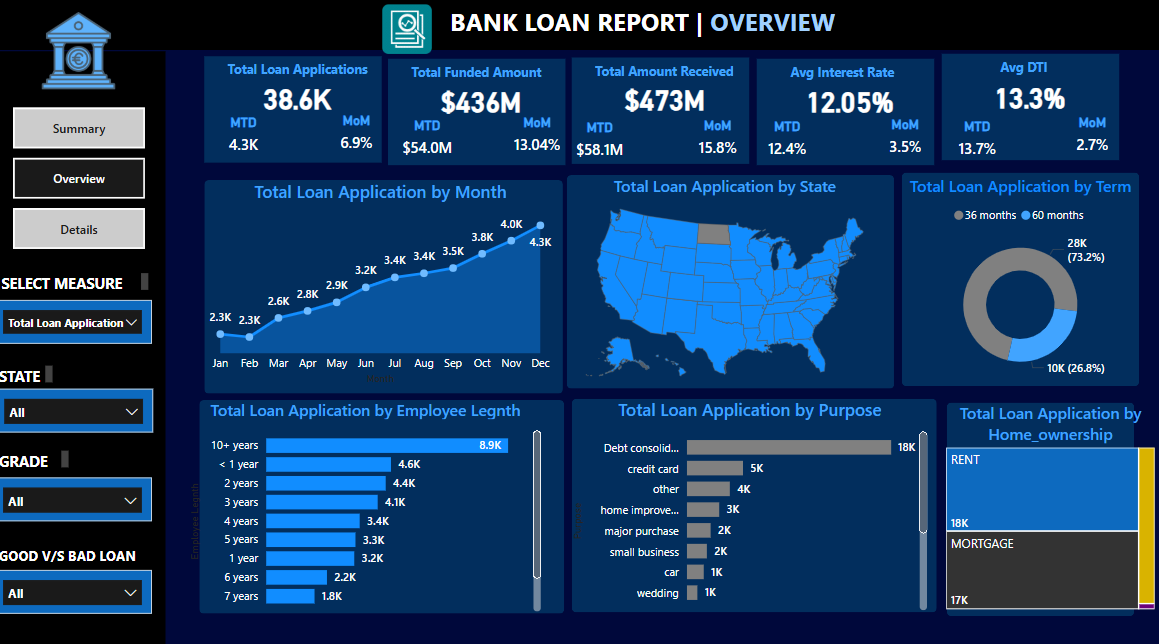

This screenshot's page, from the dashboard's own definition file:
{"tool":"powerbi","page":{"name":"Overview","canvas":[1280,720],"ordinal":1},"visuals":[{"type":"shape","box":[1042,59.5,194.8,116.9],"z":0,"group":"g4"},{"type":"shape","box":[232.1,61.7,194.8,116.9],"z":0,"group":"g5"},{"type":"shape","box":[635.2,63.5,194.8,116.9],"z":0,"group":"g2"},{"type":"shape","box":[434.2,64.5,194.8,116.9],"z":0,"group":"g1"},{"type":"shape","box":[838.4,64.5,194.8,116.9],"z":0,"group":"g3"},{"type":"shape","box":[231.9,197.6,393.8,234.6],"z":0},{"type":"shape","box":[0,0,1280.3,54.9],"z":1000},{"type":"card","fields":{"Values":["Bank_Loan_Data.Avg DTI"]},"box":[1077.3,80.5,122.1,52.1],"z":1000,"group":"g4"},{"type":"card","fields":{"Values":["Bank_Loan_Data.Total Loan Application"]},"box":[273.1,80.7,122,53],"z":1000,"group":"g5"},{"type":"card","fields":{"Values":["Bank_Loan_Data.Total Amount received"]},"box":[676.2,82.5,122,53],"z":1000,"group":"g2"},{"type":"card","fields":{"Values":["Bank_Loan_Data.Total Funded Amount"]},"box":[475.2,83.5,122,53],"z":1000,"group":"g1"},{"type":"card","fields":{"Values":["Bank_Loan_Data.Average Intrest Rate"]},"box":[879.4,83.5,122,53],"z":1000,"group":"g3"},{"type":"shape","box":[0,56.3,189.4,664.2],"z":2000},{"type":"textbox","box":[1062,59.6,175,30],"z":2000,"group":"g4"},{"type":"textbox","box":[252.1,61.8,175,30],"z":2000,"group":"g5"},{"type":"textbox","box":[655.2,63.6,175,30],"z":2000,"group":"g2"},{"type":"textbox","box":[454.2,64.6,175,30],"z":2000,"group":"g1"},{"type":"textbox","box":[858.4,64.6,175,30],"z":2000,"group":"g3"},{"type":"textbox","box":[1.4,396.6,68.6,30.2],"z":3000},{"type":"textbox","box":[496.3,0,537,45.7],"z":4000},{"type":"group","id":"g1","title":"Group 1","box":[434.2,64.5,195.1,117.3],"z":5000},{"type":"card","title":"MTD","fields":{"Values":["Bank_Loan_Data.MTD Funded Amount"]},"box":[439,128.9,75,53],"z":6000},{"type":"card","title":"MoM","fields":{"Values":["Bank_Loan_Data.MoM Total Funded Amount"]},"box":[563.8,126.2,66.7,53.1],"z":7000},{"type":"group","id":"g2","title":"Group 1","box":[635.2,63.5,195,116.9],"z":8000},{"type":"card","title":"MTD","fields":{"Values":["Bank_Loan_Data.MTD Amount Received"]},"box":[633.8,131.1,64,53],"z":9000},{"type":"card","title":"MoM","fields":{"Values":["Bank_Loan_Data.MoM Total Funded Amount  Received"]},"box":[767.4,128.5,57,53],"z":10000},{"type":"group","id":"g3","title":"Group 1","box":[838.4,64.5,194.9,116.6],"z":11000},{"type":"card","title":"MTD","fields":{"Values":["Bank_Loan_Data.MTD Avg Interest Rate"]},"box":[839.2,130.1,64,53],"z":12000},{"type":"card","title":"MoM","fields":{"Values":["Bank_Loan_Data.MoM Avg Interest Day"]},"box":[972.8,127.5,57,53],"z":13000},{"type":"group","id":"g4","title":"Group 1","box":[1042,59.5,195,116.9],"z":14000},{"type":"card","title":"MTD","fields":{"Values":["Bank_Loan_Data.MTD Avg DTI"]},"box":[1048.3,130.3,64,53],"z":15000},{"type":"card","title":"MoM","fields":{"Values":["Bank_Loan_Data.MoM Avg DTI"]},"box":[1178.2,126.8,56.3,52.1],"z":16000},{"type":"group","id":"g5","title":"Group 1","box":[232.1,61.7,195.1,117.3],"z":17000},{"type":"card","title":"MTD","fields":{"Values":["Bank_Loan_Data.MTD Loan Applications"]},"box":[237,126.2,75,53],"z":18000},{"type":"card","title":"MoM","fields":{"Values":["Bank_Loan_Data.MoM Loan Application"]},"box":[371,123.2,57,53],"z":19000},{"type":"slicer","fields":{"Values":["Bank_Loan_Data.address_state"]},"box":[1.4,426.8,174.3,48],"z":20000},{"type":"slicer","fields":{"Values":["Bank_Loan_Data.grade"]},"box":[0,524.2,174.3,48],"z":21000},{"type":"textbox","box":[1.4,489.9,86.4,30.2],"z":22000},{"type":"slicer","fields":{"Values":["Bank_Loan_Data.Good vs Bad Loan"]},"box":[0,625.7,174.3,48],"z":23000},{"type":"textbox","box":[1.4,595.5,174.3,30.2],"z":24000},{"type":"areaChart","fields":{"Y":["Bank_Loan_Data.Total Loan Application"],"Category":["Date Table.Month"]},"box":[231.9,197.6,387,229.2],"z":25000},{"type":"slicer","fields":{"Values":["Select Measures.Select Measures"]},"box":[0,329.3,174.3,48],"z":26000},{"type":"textbox","box":[4.1,295,171.5,30.2],"z":27000},{"type":"shape","box":[629.8,192.1,359.5,234.6],"z":28000},{"type":"shapeMap","fields":{"Value":["Bank_Loan_Data.Total Loan Application"],"Category":["Bank_Loan_Data.address_state"]},"box":[617.5,192.1,371.9,236],"z":29000},{"type":"shape","box":[997.3,189.6,260.7,234.6],"z":30000},{"type":"donutChart","fields":{"Y":["Bank_Loan_Data.Total Loan Application"],"Category":["Bank_Loan_Data.term"]},"box":[997.6,192.1,260.7,231.9],"z":31000},{"type":"shape","box":[226.4,439.1,400.7,234.6],"z":32000},{"type":"barChart","fields":{"Y":["Bank_Loan_Data.Total Loan Application"],"Category":["Bank_Loan_Data.emp_length"]},"box":[211.3,437.7,395.2,238.8],"z":33000},{"type":"shape","box":[635.3,437.7,400.7,234.6],"z":34000},{"type":"barChart","fields":{"Y":["Bank_Loan_Data.Total Loan Application"],"Category":["Bank_Loan_Data.purpose"]},"box":[631.2,436.4,399.3,238.8],"z":35000},{"type":"shape","box":[1047,441.9,205.8,234.6],"z":36000},{"type":"treemap","fields":{"Values":["Bank_Loan_Data.Total Loan Application"],"Group":["Bank_Loan_Data.home_ownership"]},"box":[1041.5,441.9,238.8,231.9],"z":37000},{"type":"image","box":[418.5,0,71.4,64.5],"z":37001},{"type":"pageNavigator","box":[22,118,145.5,155.1],"z":37002},{"type":"image","box":[46.7,6.9,94.7,97.4],"z":37003}]}

Visuals, with their boxes in screenshot pixels (x1, y1, x2, y2), scaled from the page's 1280x720 canvas onto the 1159x644 screenshot:
shape: [x1=943, y1=53, x2=1120, y2=158]
shape: [x1=210, y1=55, x2=387, y2=160]
shape: [x1=575, y1=57, x2=752, y2=161]
shape: [x1=393, y1=58, x2=570, y2=162]
shape: [x1=759, y1=58, x2=936, y2=162]
shape: [x1=210, y1=177, x2=567, y2=387]
shape: [x1=0, y1=0, x2=1158, y2=49]
card - Bank_Loan_Data.Avg DTI: [x1=975, y1=72, x2=1086, y2=119]
card - Bank_Loan_Data.Total Loan Application: [x1=247, y1=72, x2=358, y2=120]
card - Bank_Loan_Data.Total Amount received: [x1=612, y1=74, x2=723, y2=121]
card - Bank_Loan_Data.Total Funded Amount: [x1=430, y1=75, x2=541, y2=122]
card - Bank_Loan_Data.Average Intrest Rate: [x1=796, y1=75, x2=907, y2=122]
shape: [x1=0, y1=50, x2=171, y2=643]
textbox: [x1=962, y1=53, x2=1120, y2=80]
textbox: [x1=228, y1=55, x2=387, y2=82]
textbox: [x1=593, y1=57, x2=752, y2=84]
textbox: [x1=411, y1=58, x2=570, y2=85]
textbox: [x1=777, y1=58, x2=936, y2=85]
textbox: [x1=1, y1=355, x2=63, y2=382]
textbox: [x1=449, y1=0, x2=936, y2=41]
"Group 1" group: [x1=393, y1=58, x2=570, y2=163]
"MTD" card: [x1=398, y1=115, x2=465, y2=163]
"MoM" card: [x1=511, y1=113, x2=571, y2=160]
"Group 1" group: [x1=575, y1=57, x2=752, y2=161]
"MTD" card: [x1=574, y1=117, x2=632, y2=165]
"MoM" card: [x1=695, y1=115, x2=746, y2=162]
"Group 1" group: [x1=759, y1=58, x2=936, y2=162]
"MTD" card: [x1=760, y1=116, x2=818, y2=164]
"MoM" card: [x1=881, y1=114, x2=932, y2=161]
"Group 1" group: [x1=943, y1=53, x2=1120, y2=158]
"MTD" card: [x1=949, y1=117, x2=1007, y2=164]
"MoM" card: [x1=1067, y1=113, x2=1118, y2=160]
"Group 1" group: [x1=210, y1=55, x2=387, y2=160]
"MTD" card: [x1=215, y1=113, x2=283, y2=160]
"MoM" card: [x1=336, y1=110, x2=388, y2=158]
slicer - Bank_Loan_Data.address_state: [x1=1, y1=382, x2=159, y2=425]
slicer - Bank_Loan_Data.grade: [x1=0, y1=469, x2=158, y2=512]
textbox: [x1=1, y1=438, x2=80, y2=465]
slicer - Bank_Loan_Data.Good vs Bad Loan: [x1=0, y1=560, x2=158, y2=603]
textbox: [x1=1, y1=533, x2=159, y2=560]
areaChart - Bank_Loan_Data.Total Loan Application x Date Table.Month: [x1=210, y1=177, x2=560, y2=382]
slicer - Select Measures.Select Measures: [x1=0, y1=295, x2=158, y2=337]
textbox: [x1=4, y1=264, x2=159, y2=291]
shape: [x1=570, y1=172, x2=896, y2=382]
shapeMap - Bank_Loan_Data.Total Loan Application x Bank_Loan_Data.address_state: [x1=559, y1=172, x2=896, y2=383]
shape: [x1=903, y1=170, x2=1139, y2=379]
donutChart - Bank_Loan_Data.Total Loan Application x Bank_Loan_Data.term: [x1=903, y1=172, x2=1139, y2=379]
shape: [x1=205, y1=393, x2=568, y2=603]
barChart - Bank_Loan_Data.Total Loan Application x Bank_Loan_Data.emp_length: [x1=191, y1=391, x2=549, y2=605]
shape: [x1=575, y1=391, x2=938, y2=601]
barChart - Bank_Loan_Data.Total Loan Application x Bank_Loan_Data.purpose: [x1=572, y1=390, x2=933, y2=604]
shape: [x1=948, y1=395, x2=1134, y2=605]
treemap - Bank_Loan_Data.Total Loan Application x Bank_Loan_Data.home_ownership: [x1=943, y1=395, x2=1158, y2=603]
image: [x1=379, y1=0, x2=444, y2=58]
pageNavigator: [x1=20, y1=106, x2=152, y2=244]
image: [x1=42, y1=6, x2=128, y2=93]
